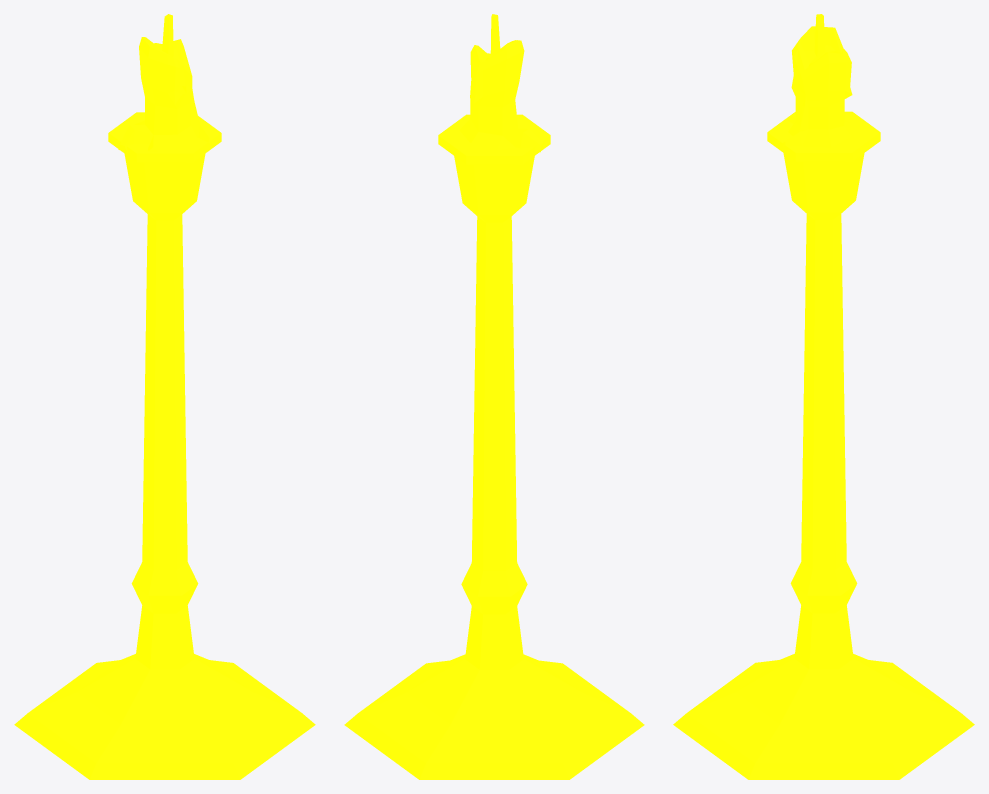
Rendered from candle-holder-tall-c-unlit-christmas.glb.
3 renders of one model, left to right at view 1: azimuth 30°, elevation 25°; view 2: azimuth 150°, elevation 25°; view 3: azimuth 270°, elevation 25°, orthographic.
Parts seen in each view (by area): view 1: candle_holder_tall_c_unlit_christmas; view 2: candle_holder_tall_c_unlit_christmas; view 3: candle_holder_tall_c_unlit_christmas.
Boxes of the visible parts, box(x1,y1,x2,y2) form: candle_holder_tall_c_unlit_christmas: box(14, 14, 315, 779); candle_holder_tall_c_unlit_christmas: box(344, 14, 644, 779); candle_holder_tall_c_unlit_christmas: box(673, 14, 974, 779).
Size of the model in its own units: 0.1644 by 0.4931 by 0.1898.
1 material, 1 textured.
